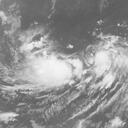cyclone: (23, 29, 120, 94)
